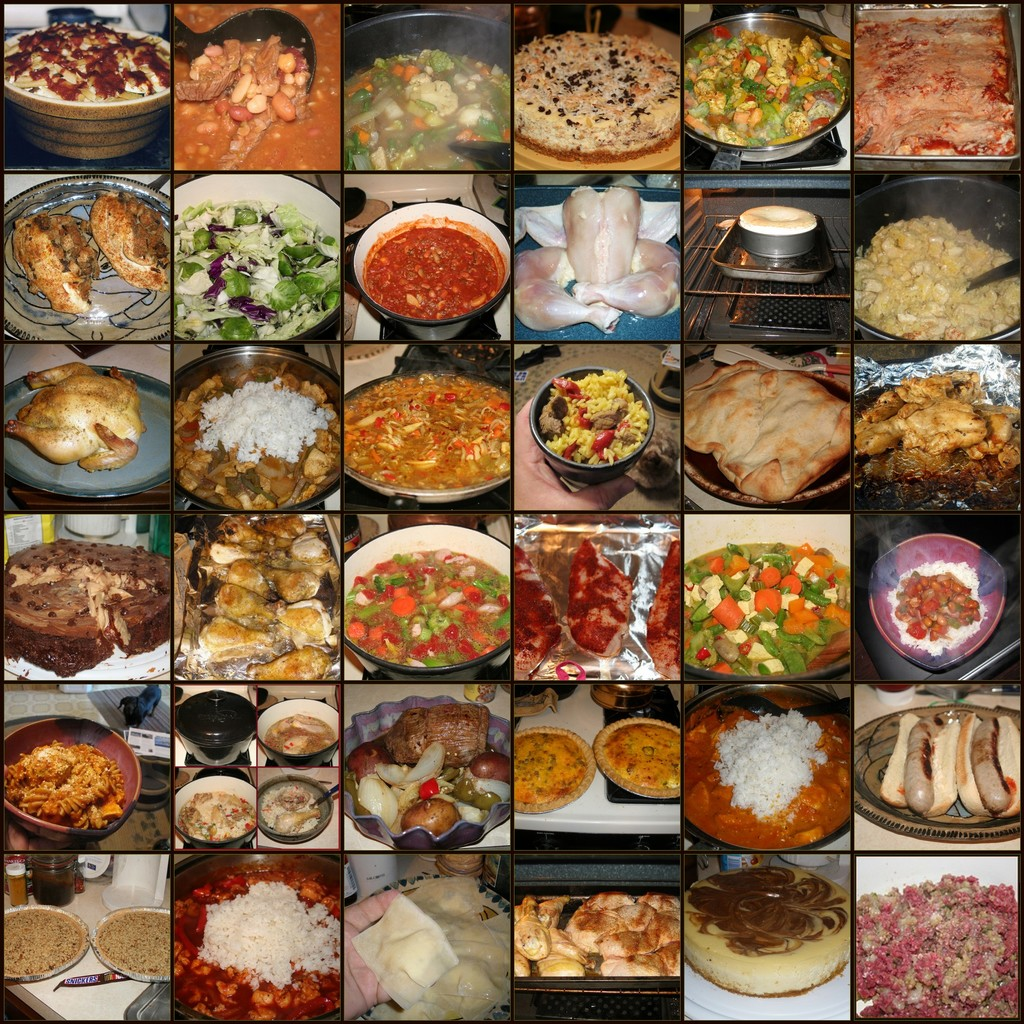salad: (681, 540, 856, 678), (175, 199, 338, 333), (345, 545, 515, 673), (684, 19, 856, 145)
